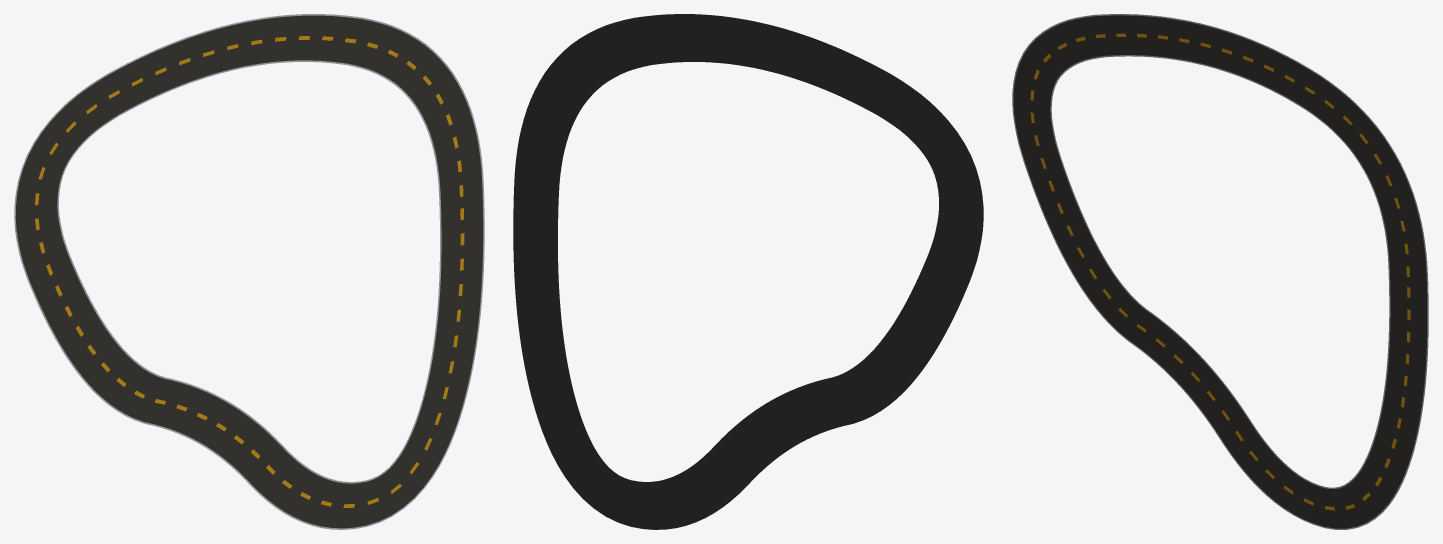
File: track.obj
The picture shows the model from 3 angles, left to right: view 1: azimuth 30°, elevation 25°; view 2: azimuth 150°, elevation 25°; view 3: azimuth 330°, elevation 25°; orthographic projection. The views are drawn at different scales.
Size of the model in its own units: 12.7 by 13.83 by 0.002.
Materials: 3 (3 with a texture image).
